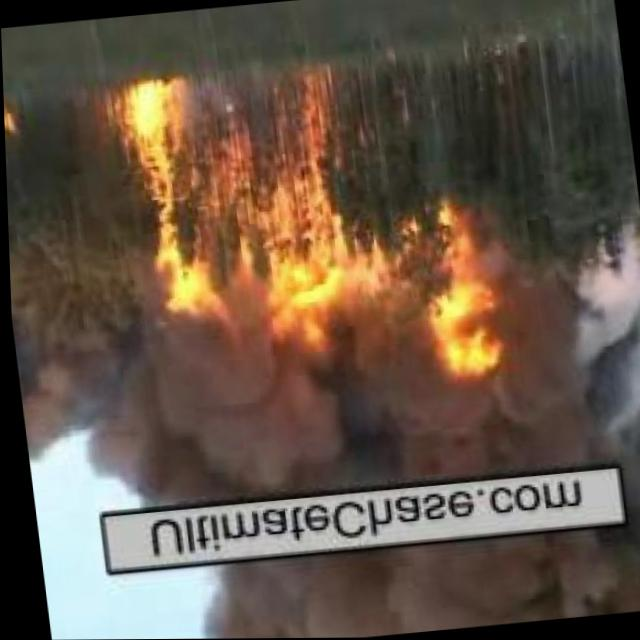Fire: (115, 60, 363, 342), (406, 198, 514, 396), (3, 100, 22, 151)
